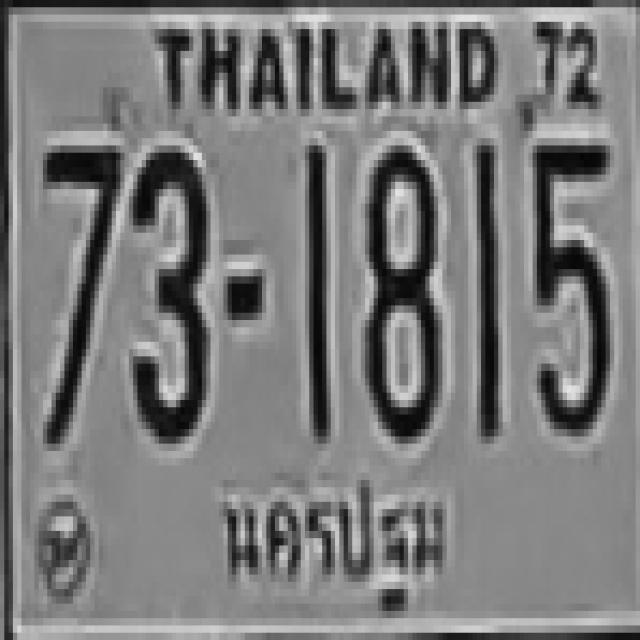1: (302, 142, 328, 440), (472, 138, 498, 436), (472, 138, 494, 436)
3: (129, 146, 206, 437)
5: (528, 138, 606, 429)
7: (39, 138, 120, 444), (39, 138, 120, 378)
8: (361, 138, 438, 436)
NakhonPathom: (218, 463, 450, 617)
